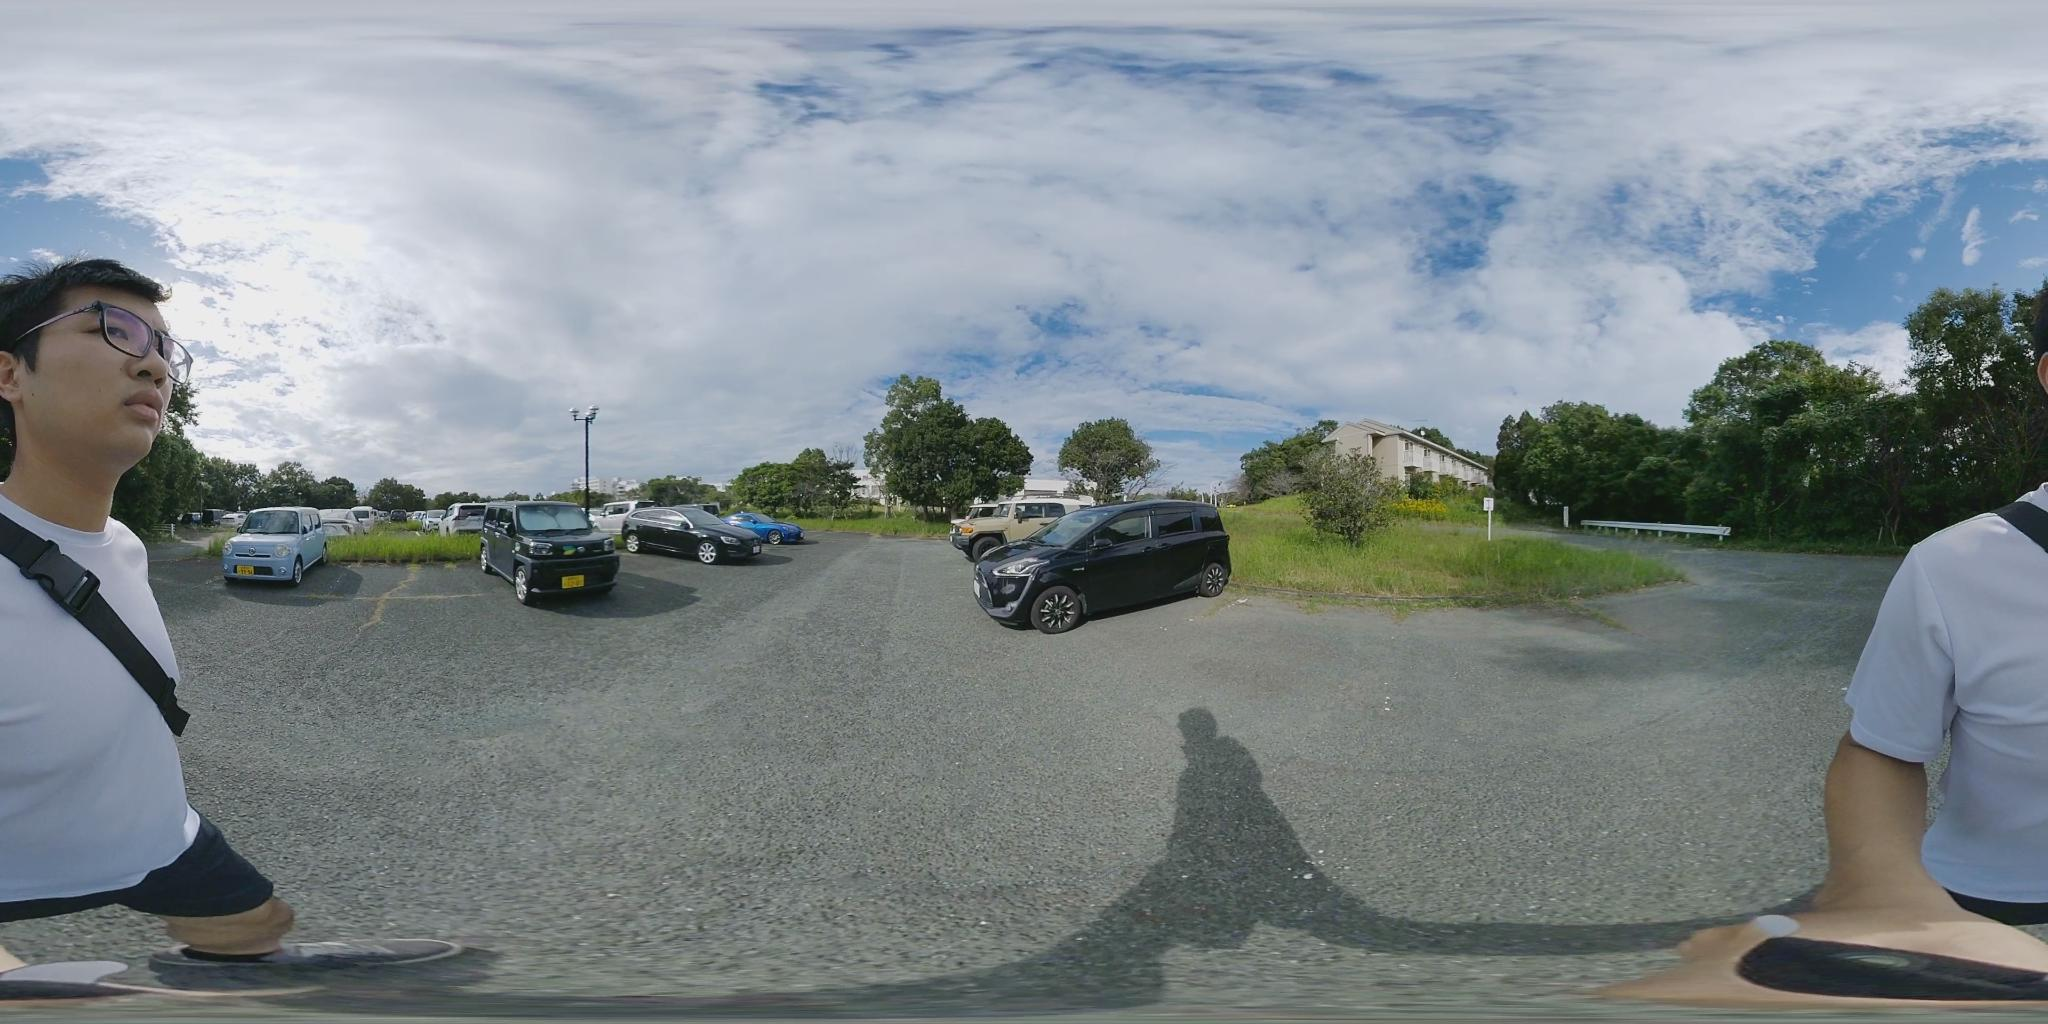car: (959, 503, 1233, 635), (470, 505, 623, 602), (216, 509, 334, 585), (620, 505, 773, 564), (951, 496, 1097, 558), (726, 515, 808, 545), (436, 503, 486, 533)
